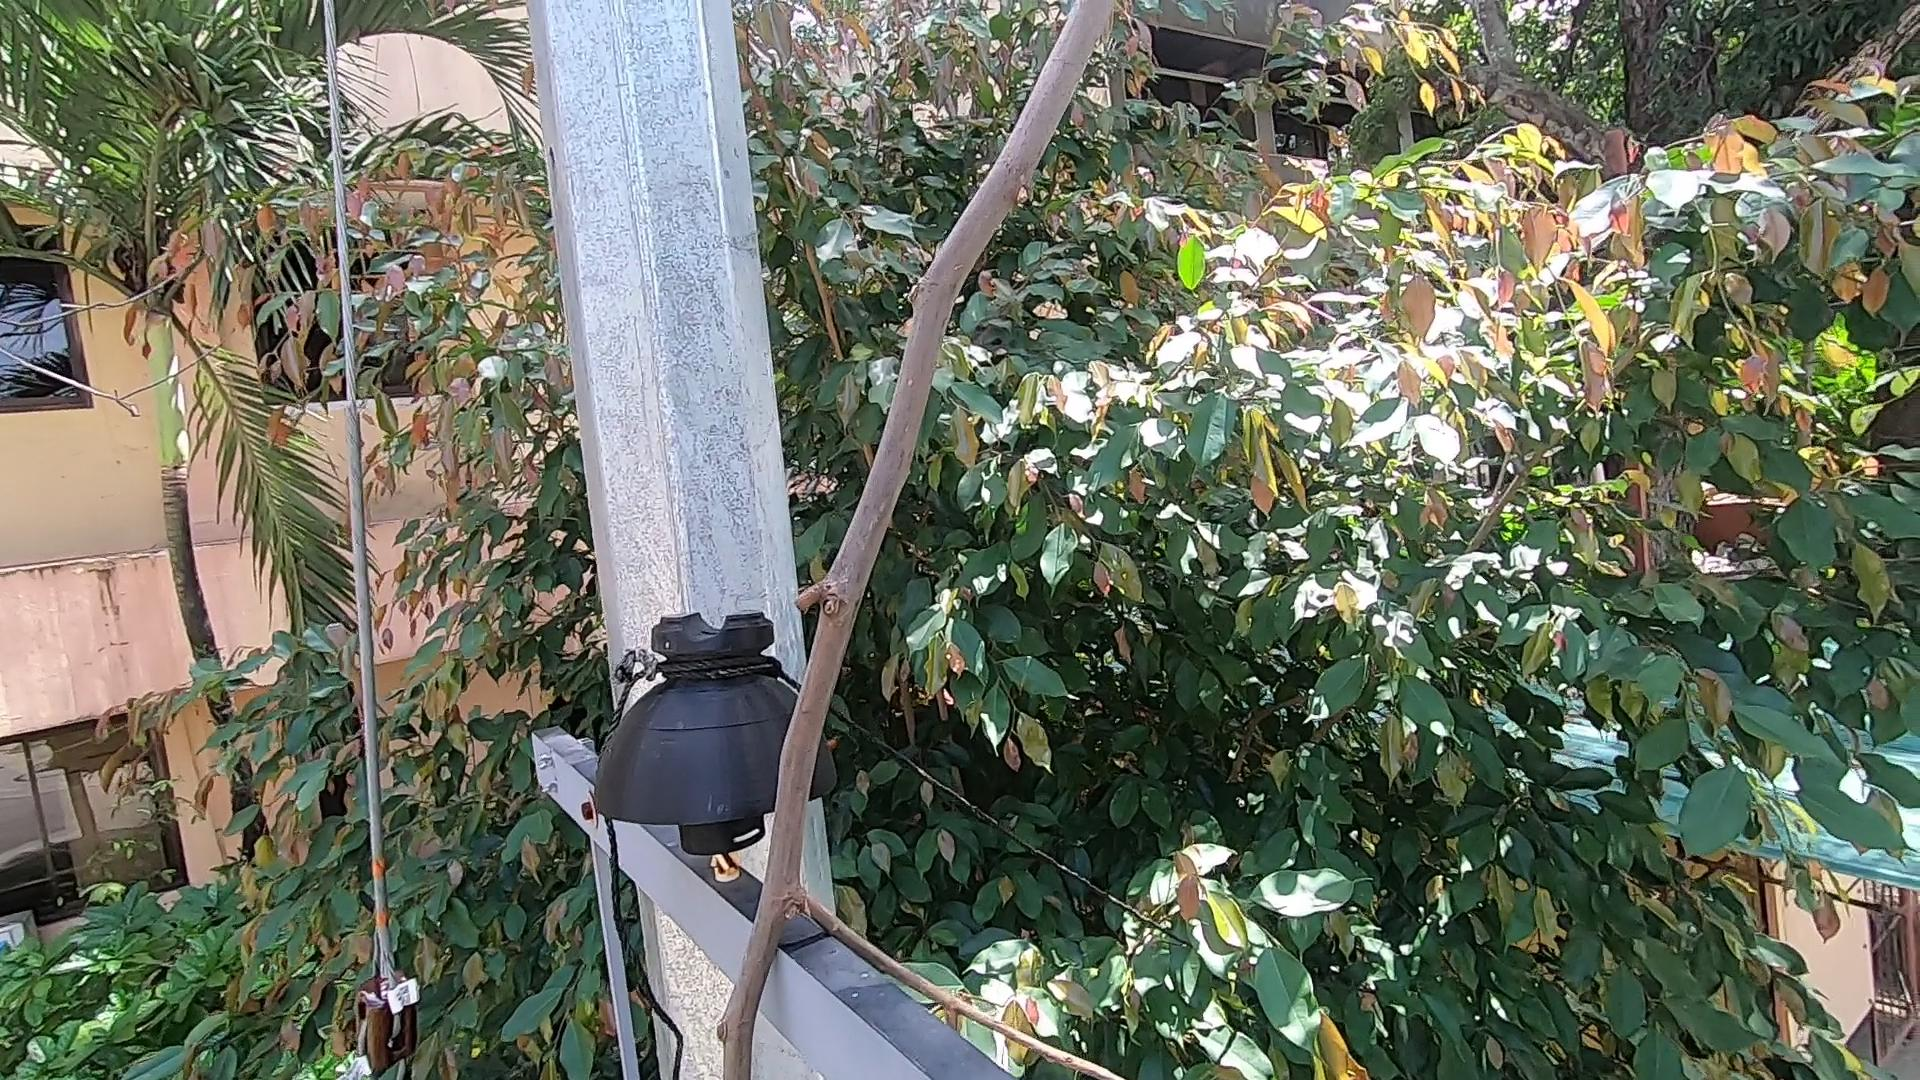tree branch: (704, 5, 1112, 1080)
